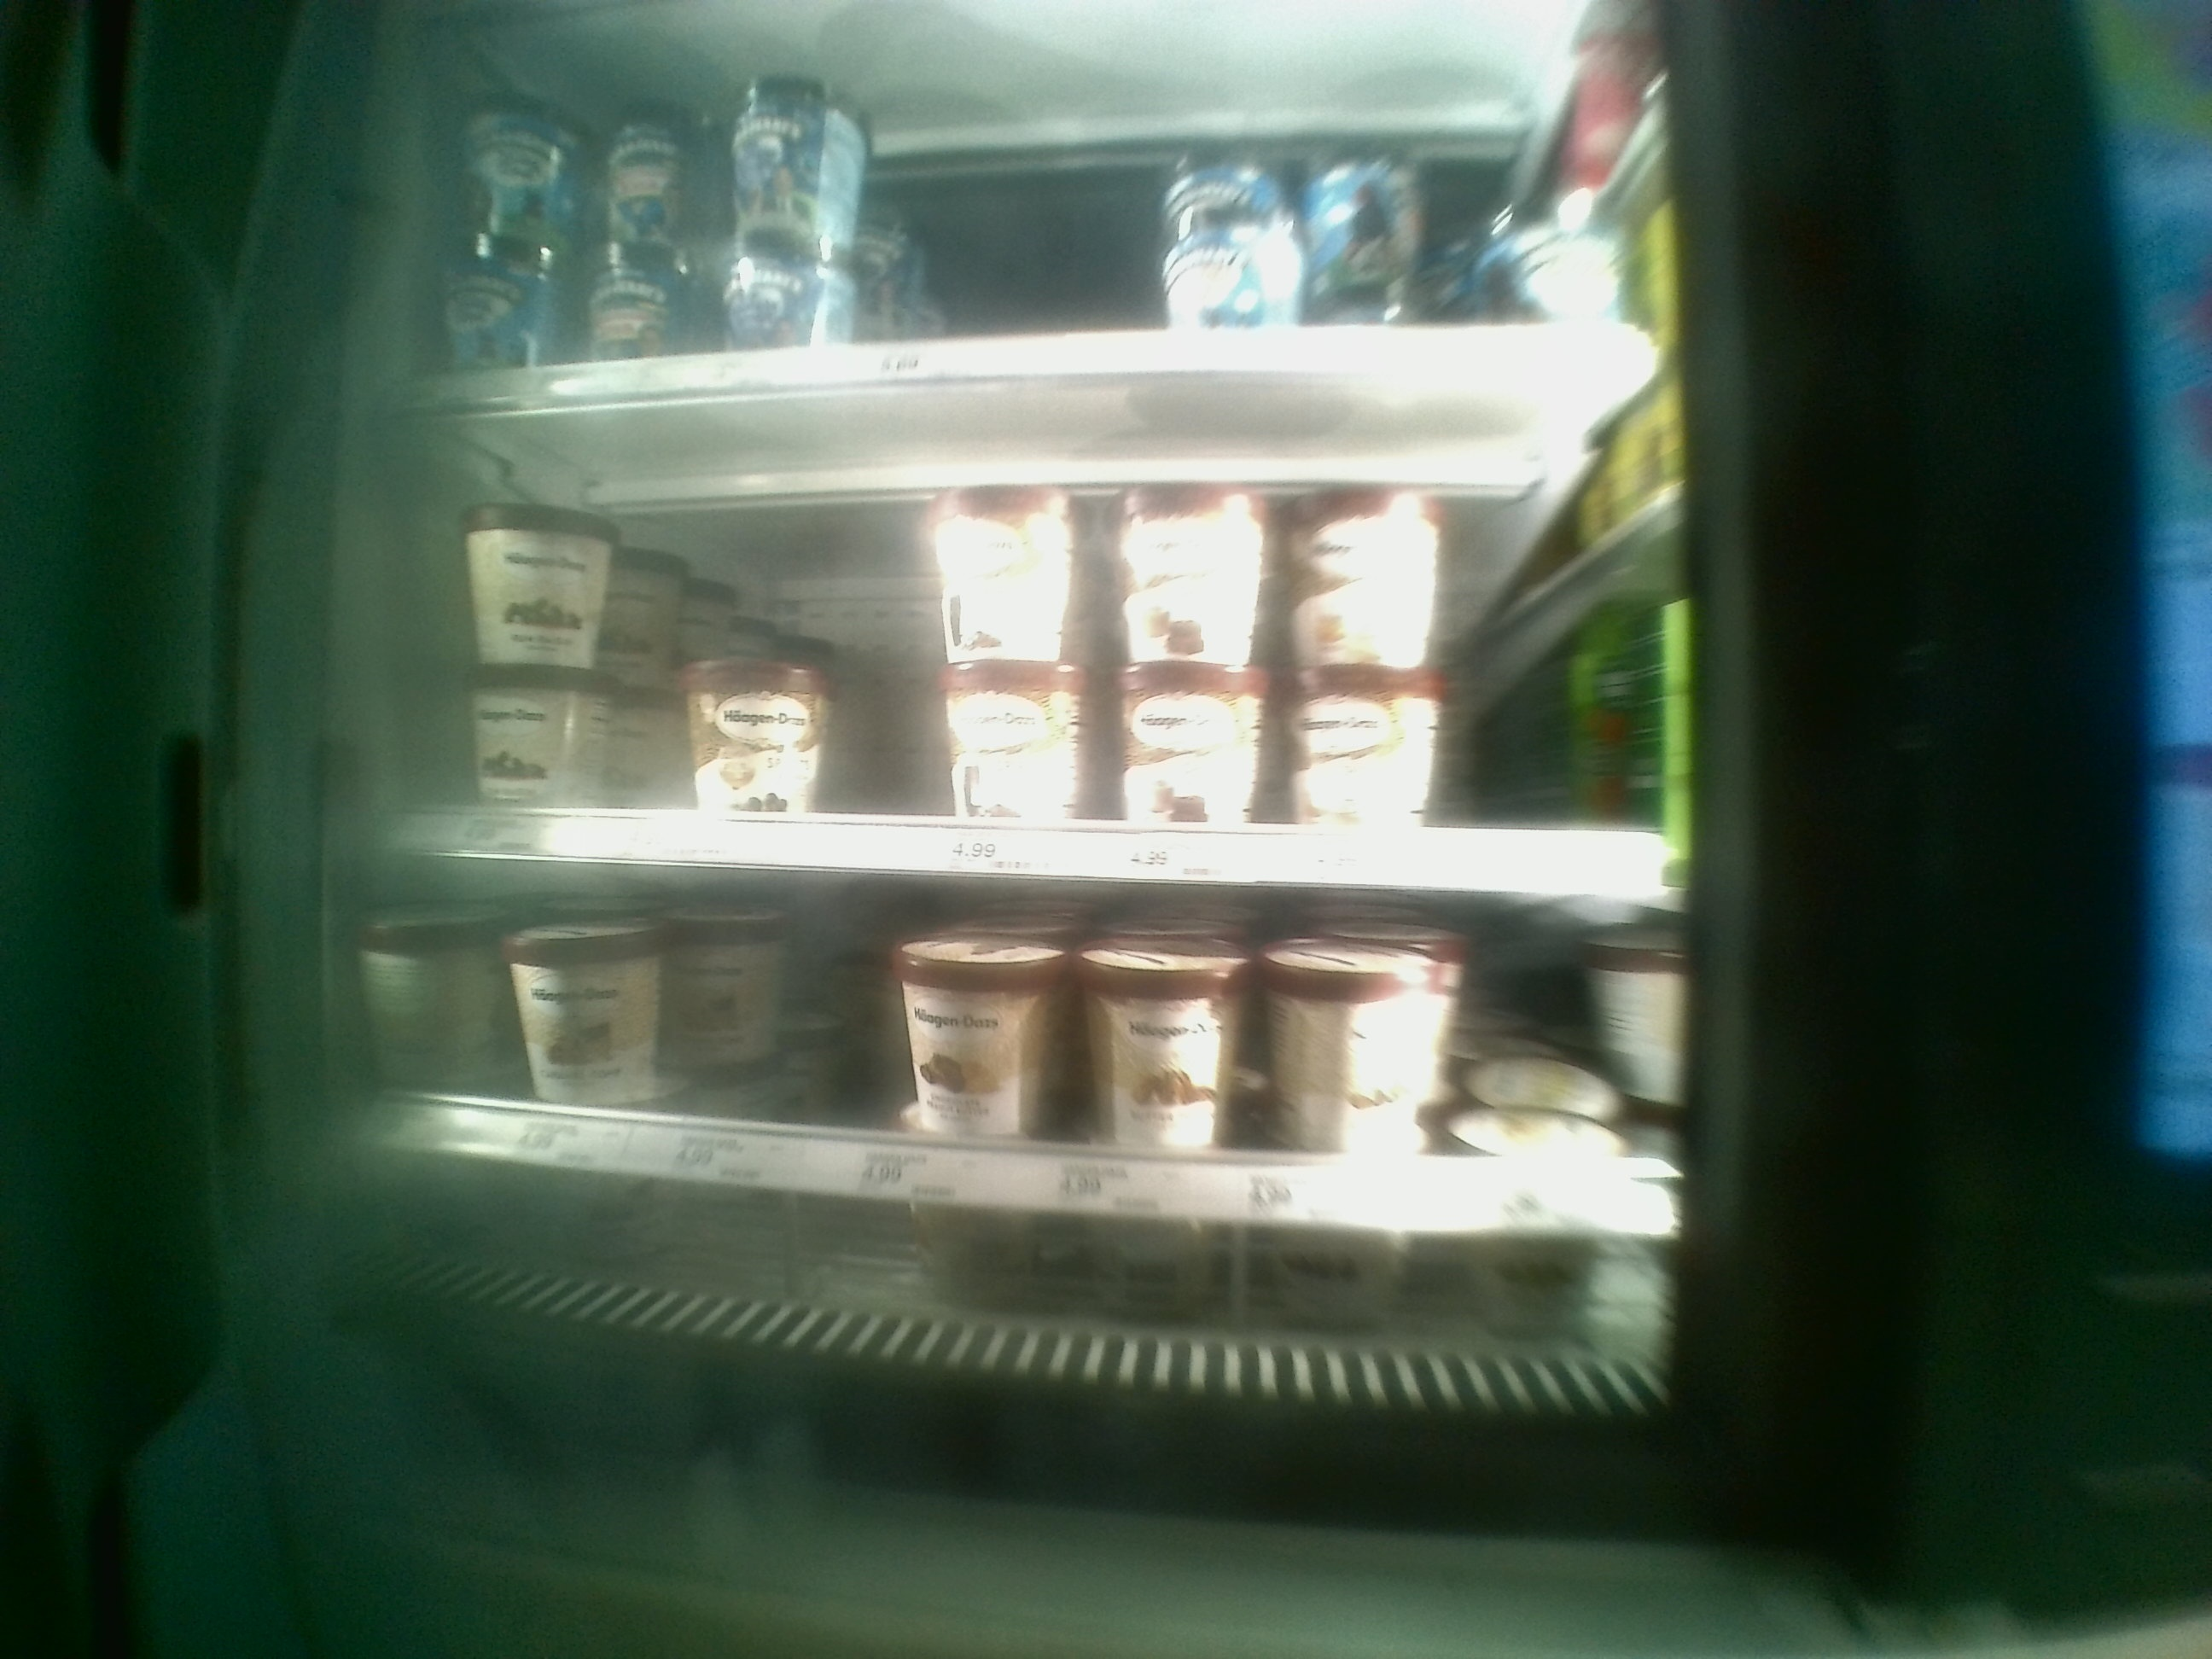shelf: (364, 864, 1726, 1364), (371, 375, 1684, 884)
